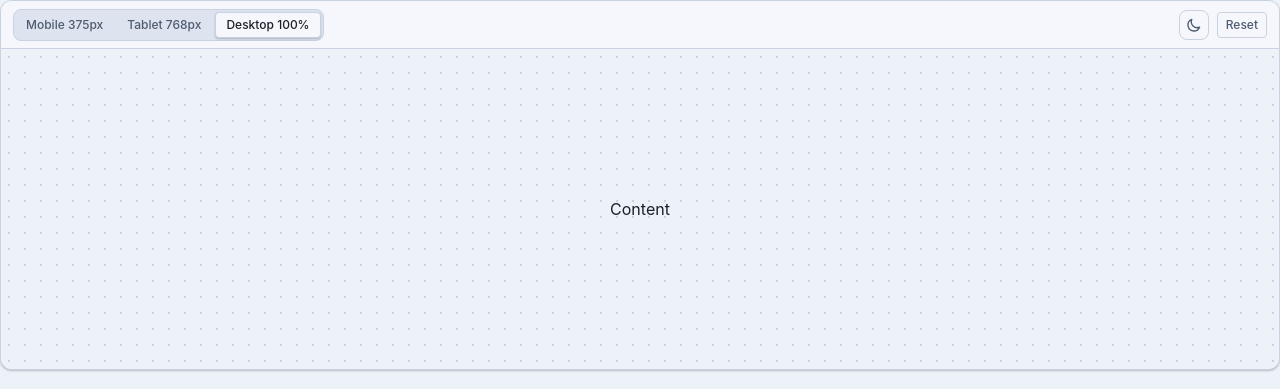
PreviewStage › toggles stage theme without changing document or parent theme
Expected: the icon with test id "stage-moon-icon" is shown, [1186,16,1202,32]
Note: Click theme toggle
Step 1. Click the button named "Switch preview to dark mode" → (1194, 24), box [1179,10,1209,40]
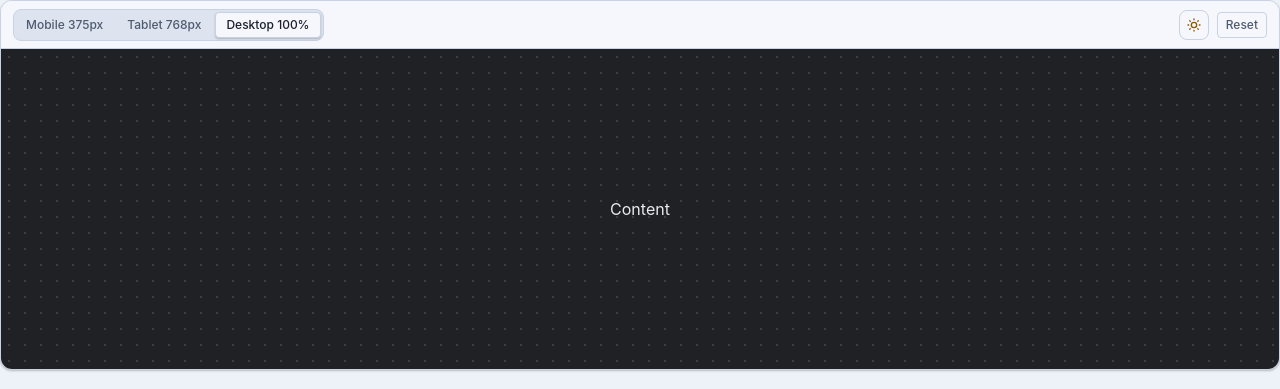
Now the icon with test id "stage-sun-icon" is shown, box [1186,16,1202,32]
Note: Click again to return to light
Step 2. Click the button named "Switch preview to light mode" → (1194, 24), box [1179,10,1209,40]
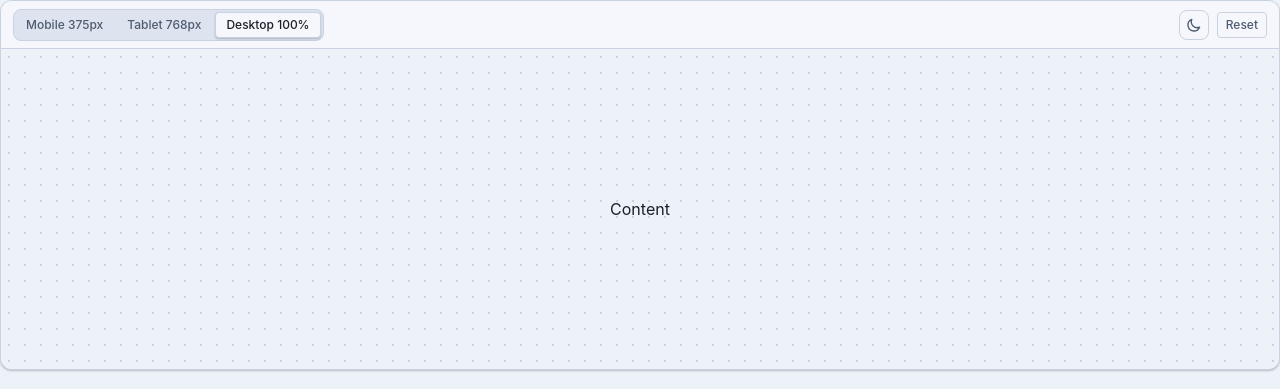
Now the icon with test id "stage-moon-icon" is shown, box [1186,16,1202,32]
